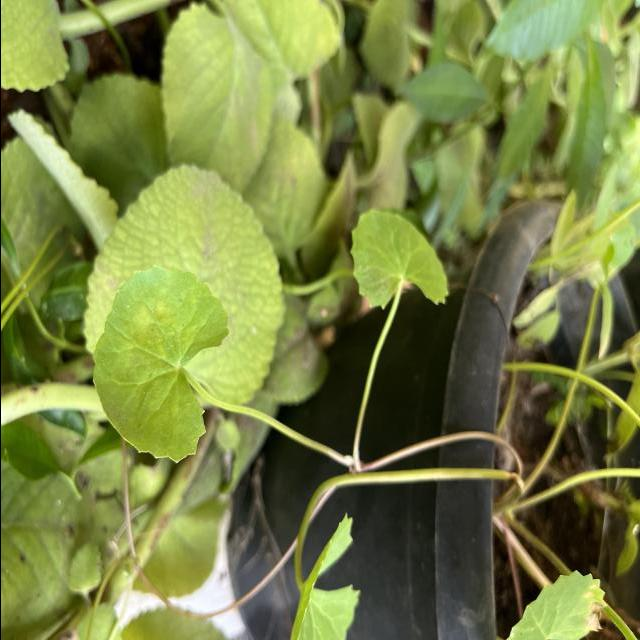Centella asiatica: (88, 260, 233, 467)
